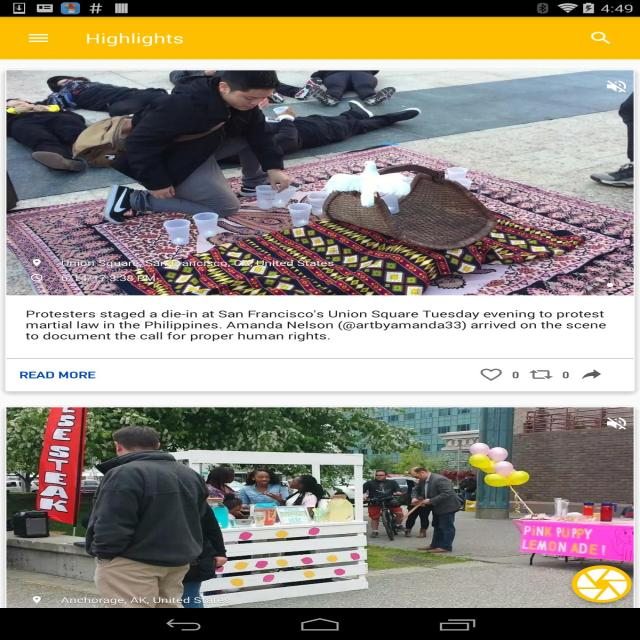button: (7, 70, 635, 391), (560, 558, 631, 604), (593, 410, 638, 439), (587, 28, 624, 52), (598, 76, 630, 96), (25, 28, 52, 49)
heading: (81, 31, 184, 49)
image: (1, 408, 632, 608)
link: (17, 367, 97, 381)
text: (5, 69, 632, 295), (21, 306, 608, 348)
